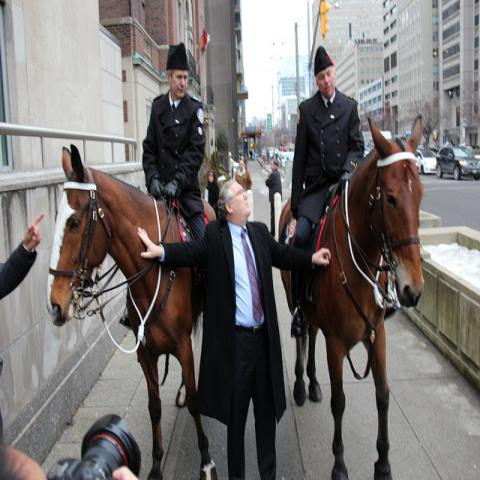car: (436, 144, 479, 182), (414, 149, 436, 174)
